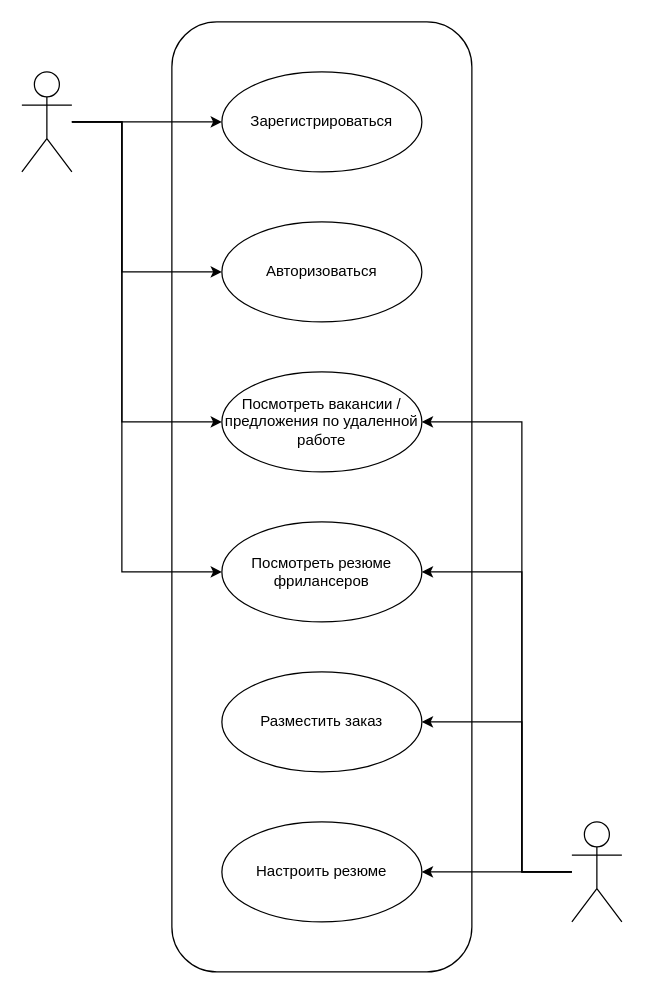
The diagram is 668 pixels wide and 994 high, and some of its shapes have lost their labels. Here are the shapes that lost their labels. From the top down, the centre of each, then its label:
the point at 46,121: Гость
the point at 596,871: Пользователь в системе
